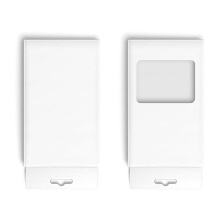plastic_box: (13, 29, 108, 199), (118, 31, 213, 199)
